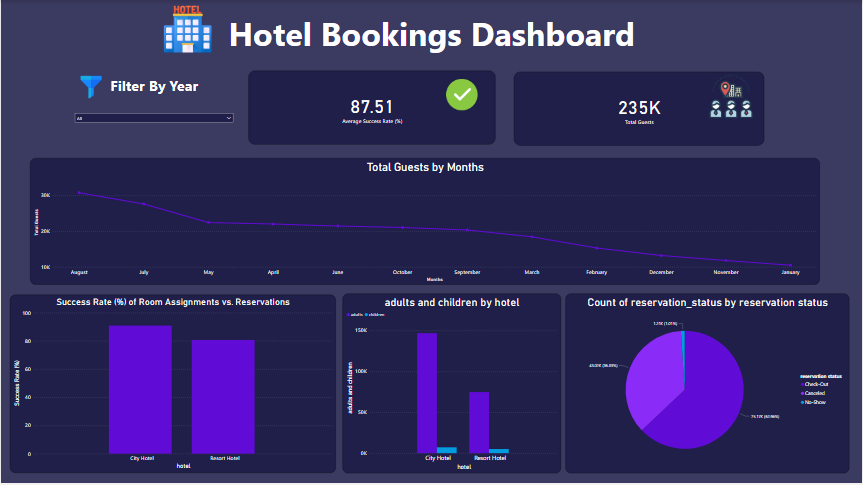

This screenshot's page, from the dashboard's own definition file:
{"tool":"powerbi","page":{"name":"Page 1","canvas":[2560,1440],"ordinal":0},"visuals":[{"type":"clusteredColumnChart","fields":{"Category":["hotel_bookings.hotel"],"Y":["Sum(hotel_bookings.adults)","Sum(hotel_bookings.children)"]},"box":[1015,875,650,534.9],"z":0},{"type":"lineChart","fields":{"Category":["hotel_bookings.arrival_date_month"],"Y":["Sum(hotel_bookings.Total Guests)"]},"box":[86.7,473.3,2350,376.7],"z":1000},{"type":"pieChart","fields":{"Category":["hotel_bookings.reservation_status"],"Y":["CountNonNull(hotel_bookings.reservation_status)"]},"box":[1680,875,845,535],"z":2000},{"type":"card","fields":{"Values":["Sum(hotel_bookings.Total Guests)"]},"box":[1525,215,745,220],"z":3000},{"type":"clusteredColumnChart","title":"Success Rate (%) of Room Assignments vs. Reservations","fields":{"Y":["hotel_bookings.Success Rate (%)"],"Category":["hotel_bookings.hotel"]},"box":[25,880,969.9,530],"z":4000},{"type":"card","title":"Average Success Rate (%) of Room Assignments vs. Reservations","fields":{"Values":["hotel_bookings.Success Rate (%)"]},"box":[737.6,212.8,735,220],"z":5000},{"type":"image","box":[1287.6,217.8,170,135],"z":5001},{"type":"image","box":[2100,220,144.9,140],"z":5002},{"type":"textbox","box":[655,30,1250,295],"z":5003},{"type":"image","box":[327.5,12.5,457.5,152.5],"z":5004},{"type":"slicer","fields":{"Values":["hotel_bookings.arrival_date_year"]},"box":[210.5,330.8,491.1,180.4],"z":5005},{"type":"textbox","box":[320,222.5,290,75],"z":5006},{"type":"image","box":[202.5,222.5,130,77.5],"z":5007}]}

Visuals, with their boxes in screenshot pixels (x1, y1, x2, y2), scaled from the page's 2560x1440 canvas onto the 863x485 screenshot:
clusteredColumnChart - hotel_bookings.hotel x Sum(hotel_bookings.adults): [x1=342, y1=295, x2=561, y2=475]
lineChart - hotel_bookings.arrival_date_month x Sum(hotel_bookings.Total Guests): [x1=29, y1=159, x2=821, y2=286]
pieChart - hotel_bookings.reservation_status x CountNonNull(hotel_bookings.reservation_status): [x1=566, y1=295, x2=851, y2=475]
card - Sum(hotel_bookings.Total Guests): [x1=514, y1=72, x2=765, y2=147]
"Success Rate (%) of Room Assignments vs. Reservations" clusteredColumnChart: [x1=8, y1=296, x2=335, y2=475]
"Average Success Rate (%) of Room Assignments vs. Reservations" card: [x1=249, y1=72, x2=496, y2=146]
image: [x1=434, y1=73, x2=491, y2=119]
image: [x1=708, y1=74, x2=757, y2=121]
textbox: [x1=221, y1=10, x2=642, y2=109]
image: [x1=110, y1=4, x2=265, y2=56]
slicer - hotel_bookings.arrival_date_year: [x1=71, y1=111, x2=237, y2=172]
textbox: [x1=108, y1=75, x2=206, y2=100]
image: [x1=68, y1=75, x2=112, y2=101]
